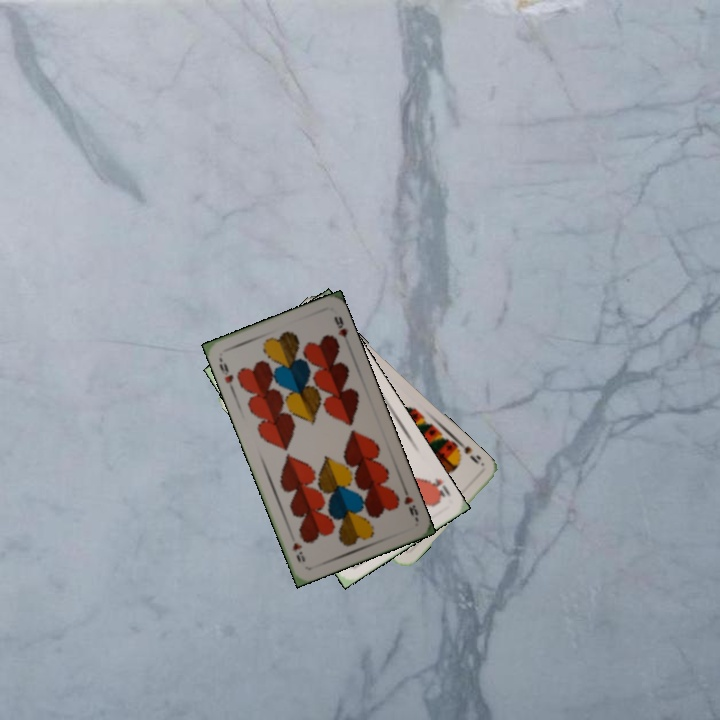H9: (399, 484, 421, 518), (215, 359, 236, 393)
HO: (422, 474, 448, 505)
S9: (450, 435, 486, 467)
